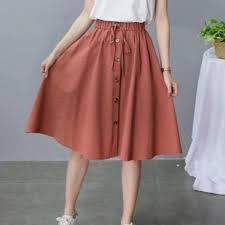skirt: (30, 20, 185, 159)
